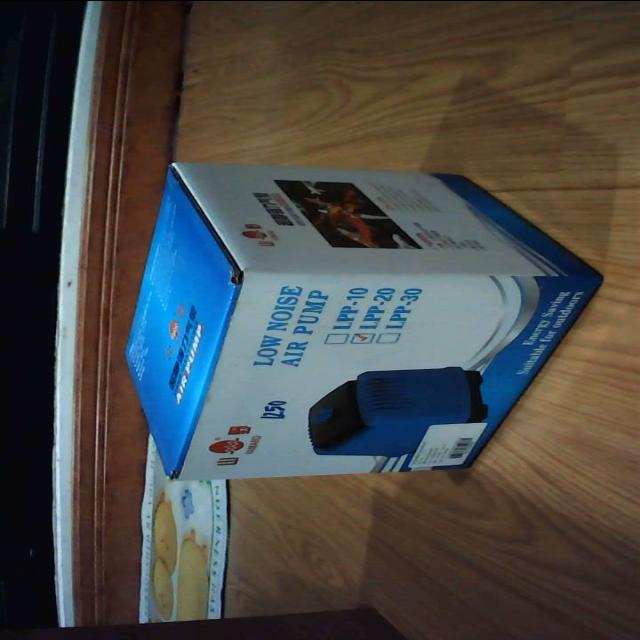YAMANO_LPP_20: (108, 152, 600, 488)
